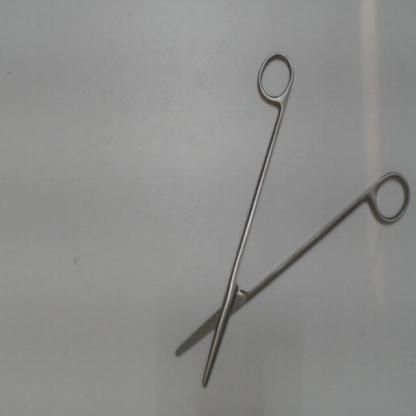9 Metzenbaum Scissors: (174, 43, 414, 396)
